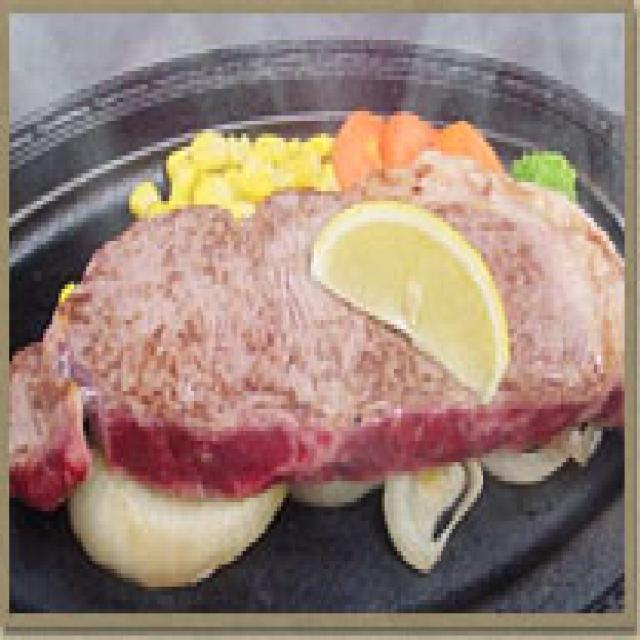牛肉菜式: (6, 133, 619, 582)
